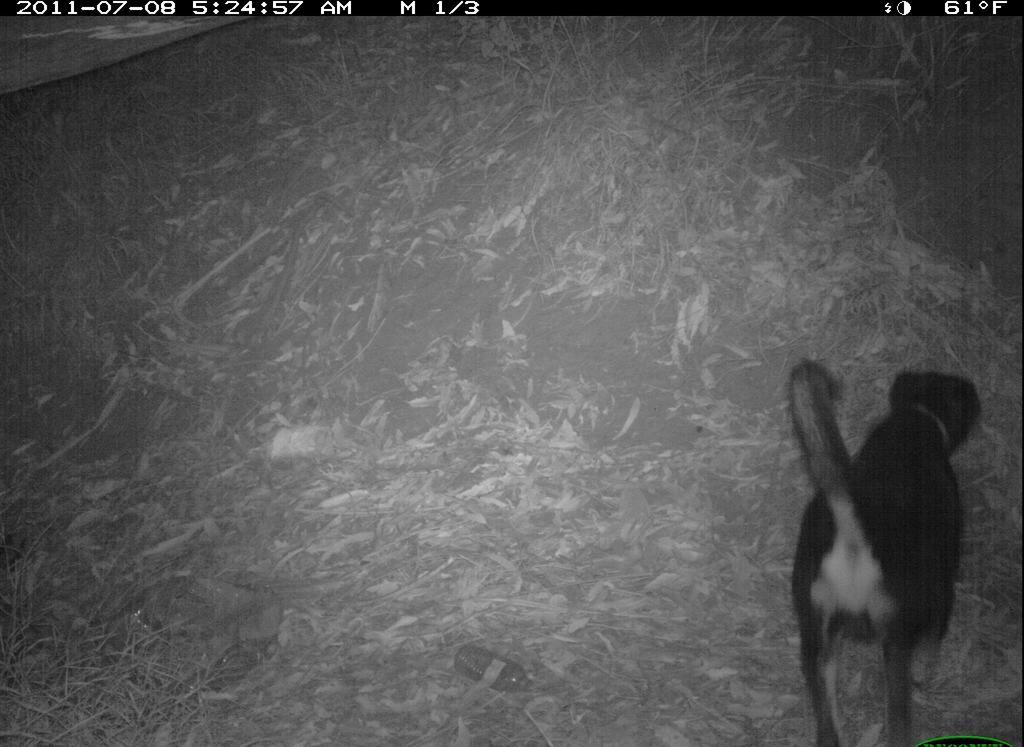dog: (772, 346, 985, 745)
